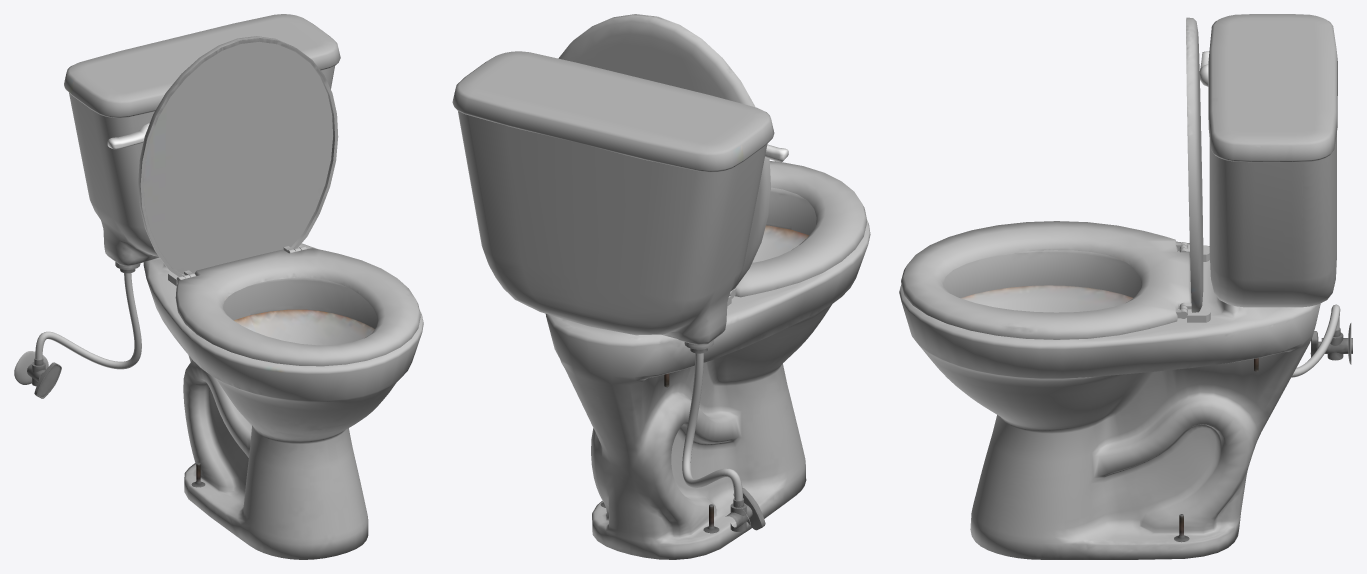
File: toilet.glb
The picture shows the model from 3 angles, left to right: view 1: azimuth 30°, elevation 25°; view 2: azimuth 150°, elevation 25°; view 3: azimuth 270°, elevation 25°; orthographic projection. The views are drawn at different scales.
Parts seen in each view (by area): view 1: Toilet, ToiletSeatCover, ToiletSeat, ToiletFlushHandle; view 2: Toilet, ToiletSeatCover, ToiletSeat; view 3: Toilet, ToiletSeat, ToiletSeatCover.
Part boxes in pixels (x1,y1,x2,y2): Toilet: (14,14,423,559); ToiletSeatCover: (138,36,338,277); ToiletSeat: (175,246,420,366); ToiletFlushHandle: (107,123,149,149); Toilet: (452,51,870,559); ToiletSeatCover: (558,14,770,290); ToiletSeat: (729,161,866,298); Toilet: (899,14,1352,559); ToiletSeat: (901,221,1191,339); ToiletSeatCover: (1179,17,1203,312).
Size of the model in its own units: 0.4783 by 0.7435 by 0.6069.
1 material, 1 textured.
